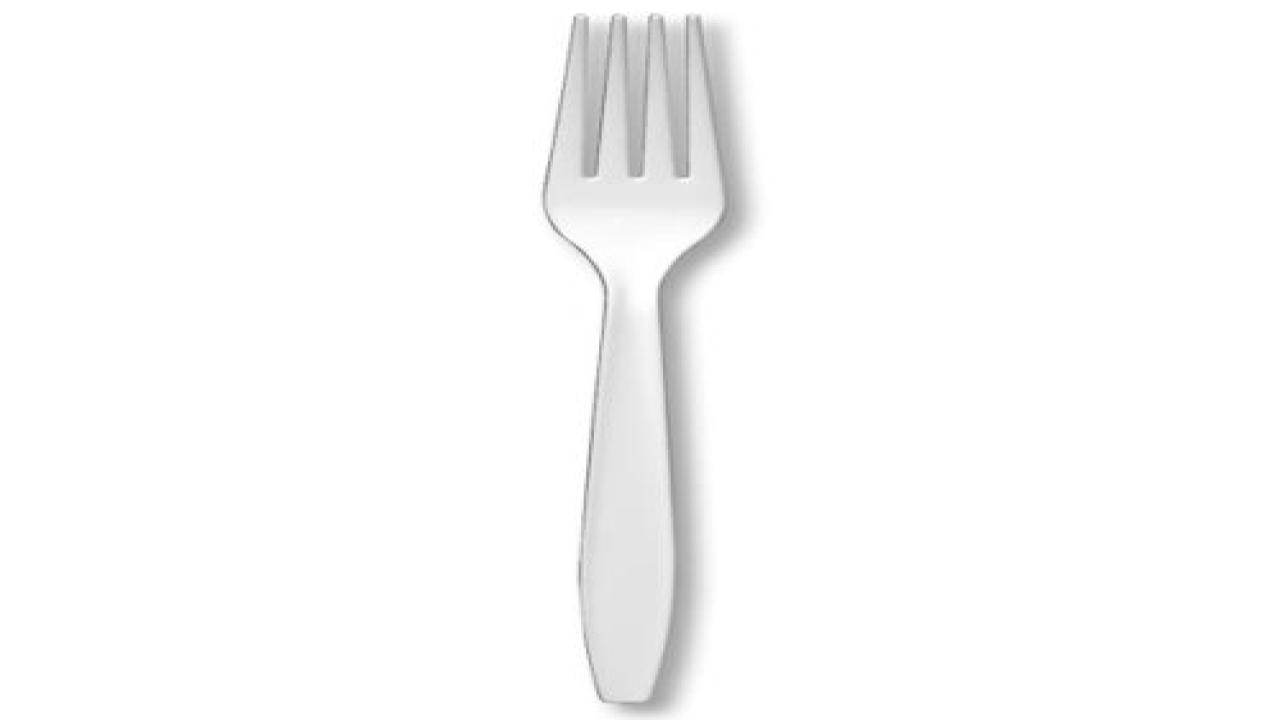fork: (538, 12, 727, 704)
